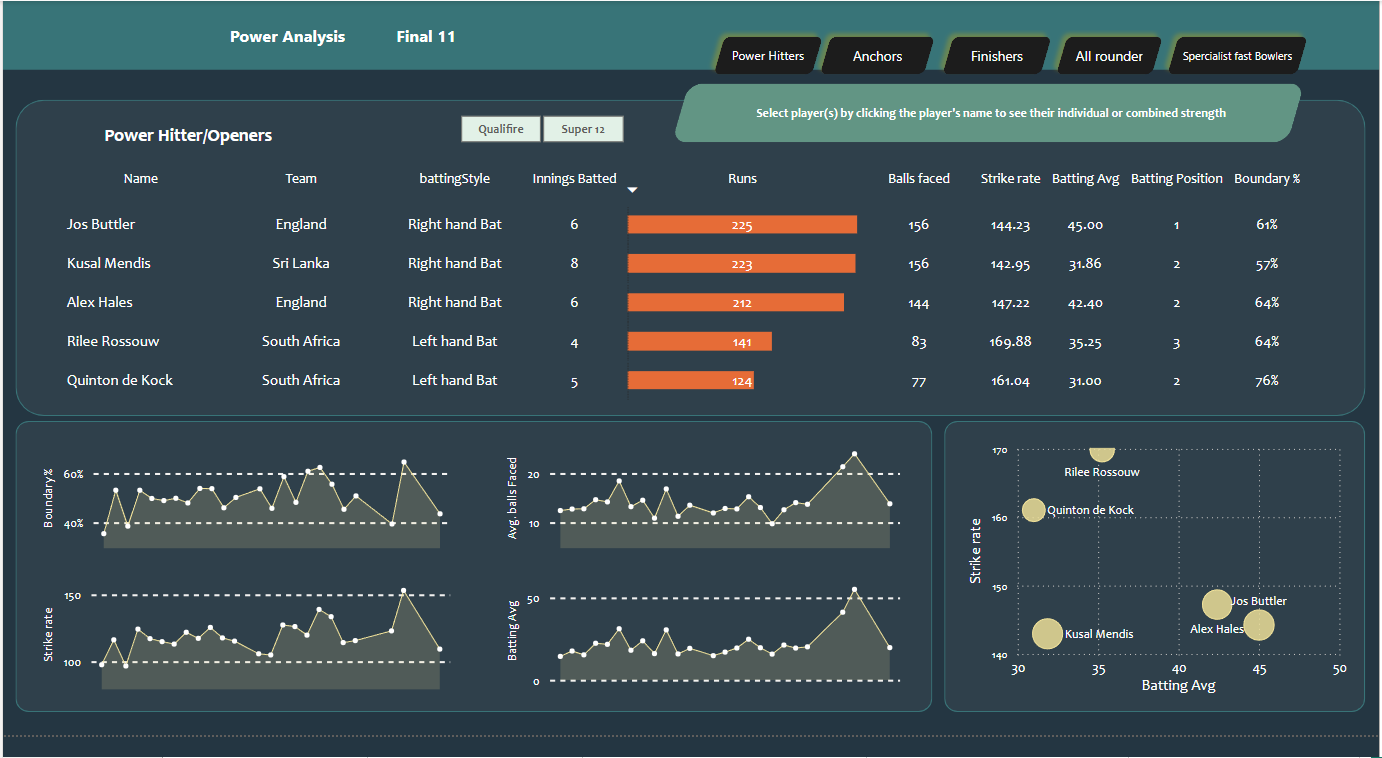

This screenshot's page, from the dashboard's own definition file:
{"tool":"powerbi","page":{"name":"Power Hitters/Anchors","canvas":[1343,716],"ordinal":0},"visuals":[{"type":"shape","box":[918.7,409.9,411.1,284.3],"z":0},{"type":"shape","box":[12.2,409.9,895.5,284.3],"z":1000},{"type":"shape","box":[12.2,96.4,1317.6,308.7],"z":2000},{"type":"shape","box":[0,0,1343.2,67.1],"z":3000},{"type":"tableEx","fields":{"Values":["dim_players.name","dim_players.team","dim_players.battingStyle","Key measure (2).Total Innings Batted","Key measure (2).Total Runs","Key measure (2).total balls faced","Key measure (2).Strike rate","Key measure (2).Batting Avg","Key measure (2).Batting Position","Key measure (2).Boundary %"]},"box":[51.2,150.1,1231,255],"z":4000},{"type":"scatterChart","title":"Players by Bat avg and Strike rate","fields":{"Category":["dim_players.name"],"X":["Key measure (2).Batting Avg"],"Y":["Key measure (2).Strike rate"],"Series":["dim_players.name"],"Size":["Key measure (2).Total Runs"]},"box":[937,423.3,379.4,258.6],"z":5000},{"type":"areaChart","fields":{"Y":["Key measure (2).Batting Avg"],"Category":["dim_match_summary.matchDate.Variation.Date Hierarchy.Year","dim_match_summary.matchDate.Variation.Date Hierarchy.Quarter","dim_match_summary.matchDate.Variation.Date Hierarchy.Month","dim_match_summary.matchDate.Variation.Date Hierarchy.Day"]},"box":[486.8,552.7,394.1,124.4],"z":6000},{"type":"areaChart","fields":{"Y":["Key measure (2).Boundary %"],"Category":["dim_match_summary.matchDate.Variation.Date Hierarchy.Year","dim_match_summary.matchDate.Variation.Date Hierarchy.Quarter","dim_match_summary.matchDate.Variation.Date Hierarchy.Month","dim_match_summary.matchDate.Variation.Date Hierarchy.Day"]},"box":[34.2,423.3,407.5,115.9],"z":7000},{"type":"areaChart","fields":{"Y":["Key measure (2).Strike rate"],"Category":["dim_match_summary.matchDate.Variation.Date Hierarchy.Year","dim_match_summary.matchDate.Variation.Date Hierarchy.Quarter","dim_match_summary.matchDate.Variation.Date Hierarchy.Month","dim_match_summary.matchDate.Variation.Date Hierarchy.Day"]},"box":[34.2,552.7,407.5,124.4],"z":8000},{"type":"areaChart","fields":{"Y":["Key measure (2).Avg. balls Faced"],"Category":["dim_match_summary.matchDate.Variation.Date Hierarchy.Year","dim_match_summary.matchDate.Variation.Date Hierarchy.Quarter","dim_match_summary.matchDate.Variation.Date Hierarchy.Month","dim_match_summary.matchDate.Variation.Date Hierarchy.Day"]},"box":[486.8,423.3,394.1,115.9],"z":9000},{"type":"slicer","fields":{"Values":["dim_match_summary.Stage"]},"box":[420.9,104.9,208.6,32.9],"z":10000},{"type":"shape","box":[51.2,112.2,336.7,37.8],"z":11000},{"type":"shape","box":[98.8,112.2,289.1,37.8],"z":12000},{"type":"shape","box":[652.7,80.5,617.3,57.3],"z":13000},{"type":"shape","box":[693,92.7,542.9,34.2],"z":14000},{"type":"actionButton","box":[684.4,25.6,124.4,54.9],"z":15000},{"type":"actionButton","box":[788.1,25.6,130.5,54.9],"z":16000},{"type":"actionButton","box":[907.7,25.6,124.4,54.9],"z":17000},{"type":"actionButton","box":[1018.7,25.6,122,54.9],"z":18000},{"type":"actionButton","box":[1127.3,25.6,154.9,54.9],"z":19000},{"type":"actionButton","box":[209.8,0,135.4,67.1],"z":20000},{"type":"actionButton","box":[345.3,0,135.4,67.1],"z":21000}]}

Visuals, with their boxes in screenshot pixels (x1, y1, x2, y2), scaled from the page's 1343x716 canvas onto the 1382x758 screenshot:
shape: 945,434,1368,735
shape: 13,434,934,735
shape: 13,102,1368,429
shape: 0,0,1381,71
tableEx - dim_players.name x dim_players.team: 53,159,1319,429
"Players by Bat avg and Strike rate" scatterChart: 964,448,1355,722
areaChart - Key measure (2).Batting Avg x dim_match_summary.matchDate.Variation.Date Hierarchy.Year: 501,585,906,717
areaChart - Key measure (2).Boundary % x dim_match_summary.matchDate.Variation.Date Hierarchy.Year: 35,448,455,571
areaChart - Key measure (2).Strike rate x dim_match_summary.matchDate.Variation.Date Hierarchy.Year: 35,585,455,717
areaChart - Key measure (2).Avg. balls Faced x dim_match_summary.matchDate.Variation.Date Hierarchy.Year: 501,448,906,571
slicer - dim_match_summary.Stage: 433,111,648,146
shape: 53,119,399,159
shape: 102,119,399,159
shape: 672,85,1307,146
shape: 713,98,1272,134
actionButton: 704,27,832,85
actionButton: 811,27,945,85
actionButton: 934,27,1062,85
actionButton: 1048,27,1174,85
actionButton: 1160,27,1319,85
actionButton: 216,0,355,71
actionButton: 355,0,495,71
